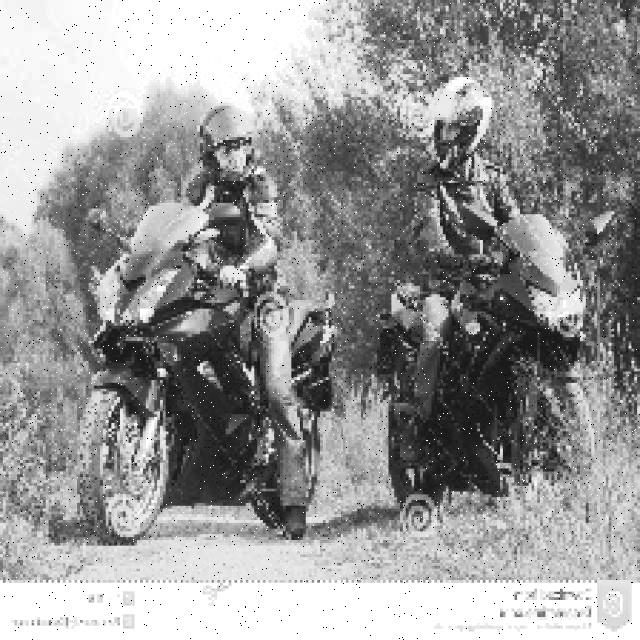Bike: (72, 228, 279, 559), (382, 208, 591, 502)
